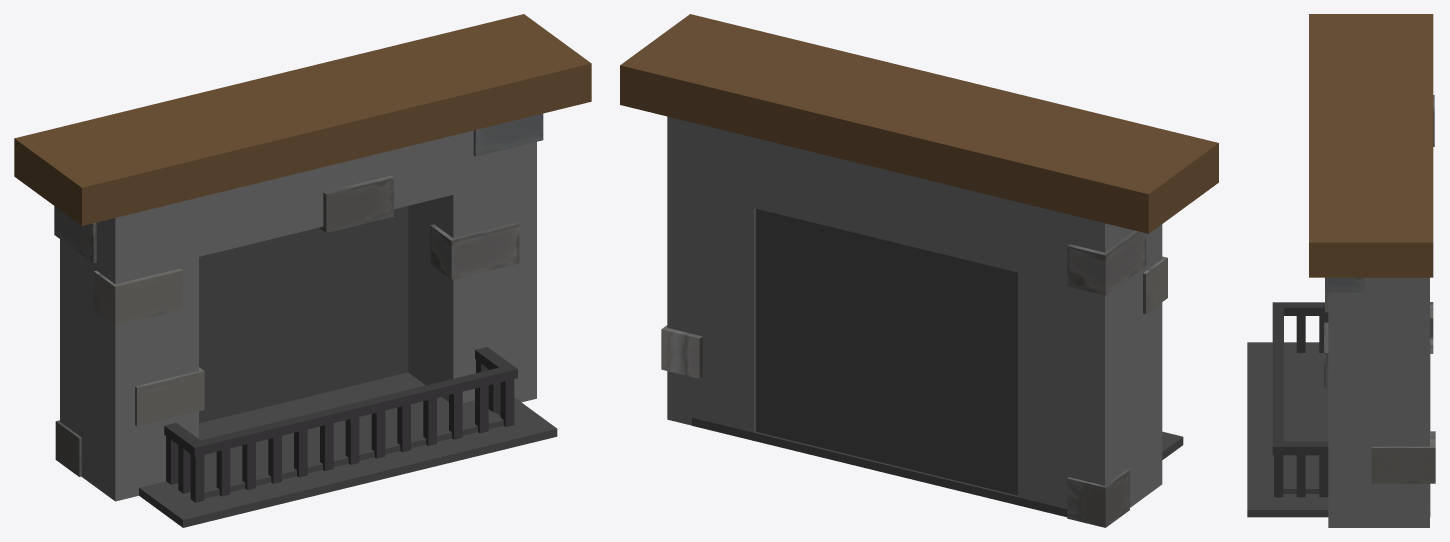
The model's file is SM_Prop_Fireplace_04.obj.
3 renders of one model, left to right at view 1: azimuth 30°, elevation 25°; view 2: azimuth 150°, elevation 25°; view 3: azimuth 270°, elevation 25°, orthographic. The views are drawn at different scales.
Parts seen in each view (by area): view 1: SM_Prop_Fireplace_04_M_LowPolyInterior_01, SM_Prop_Fireplace_04_Mat_SwatchOverlay_Farm_01_Wood_Inst, SM_Prop_Fireplace_04_Mat_SwatchOverlay_Farm_Main_01_Inst; view 2: SM_Prop_Fireplace_04_M_LowPolyInterior_01, SM_Prop_Fireplace_04_Mat_SwatchOverlay_Farm_01_Wood_Inst, SM_Prop_Fireplace_04_Mat_SwatchOverlay_Farm_Main_01_Inst; view 3: SM_Prop_Fireplace_04_M_LowPolyInterior_01, SM_Prop_Fireplace_04_Mat_SwatchOverlay_Farm_01_Wood_Inst, SM_Prop_Fireplace_04_Mat_SwatchOverlay_Farm_Main_01_Inst.
Part boxes in pixels (x1,y1,x2,y2): SM_Prop_Fireplace_04_M_LowPolyInterior_01: (60, 130, 557, 527); SM_Prop_Fireplace_04_Mat_SwatchOverlay_Farm_01_Wood_Inst: (14, 14, 591, 225); SM_Prop_Fireplace_04_Mat_SwatchOverlay_Farm_Main_01_Inst: (54, 113, 543, 476); SM_Prop_Fireplace_04_M_LowPolyInterior_01: (667, 116, 1183, 517); SM_Prop_Fireplace_04_Mat_SwatchOverlay_Farm_01_Wood_Inst: (620, 14, 1218, 233); SM_Prop_Fireplace_04_Mat_SwatchOverlay_Farm_Main_01_Inst: (661, 230, 1167, 527); SM_Prop_Fireplace_04_M_LowPolyInterior_01: (1247, 277, 1430, 527); SM_Prop_Fireplace_04_Mat_SwatchOverlay_Farm_01_Wood_Inst: (1309, 14, 1433, 277); SM_Prop_Fireplace_04_Mat_SwatchOverlay_Farm_Main_01_Inst: (1324, 95, 1435, 483).
Size of the model in its own units: 1.54 by 0.9593 by 0.536.
3 materials, 3 textured.
